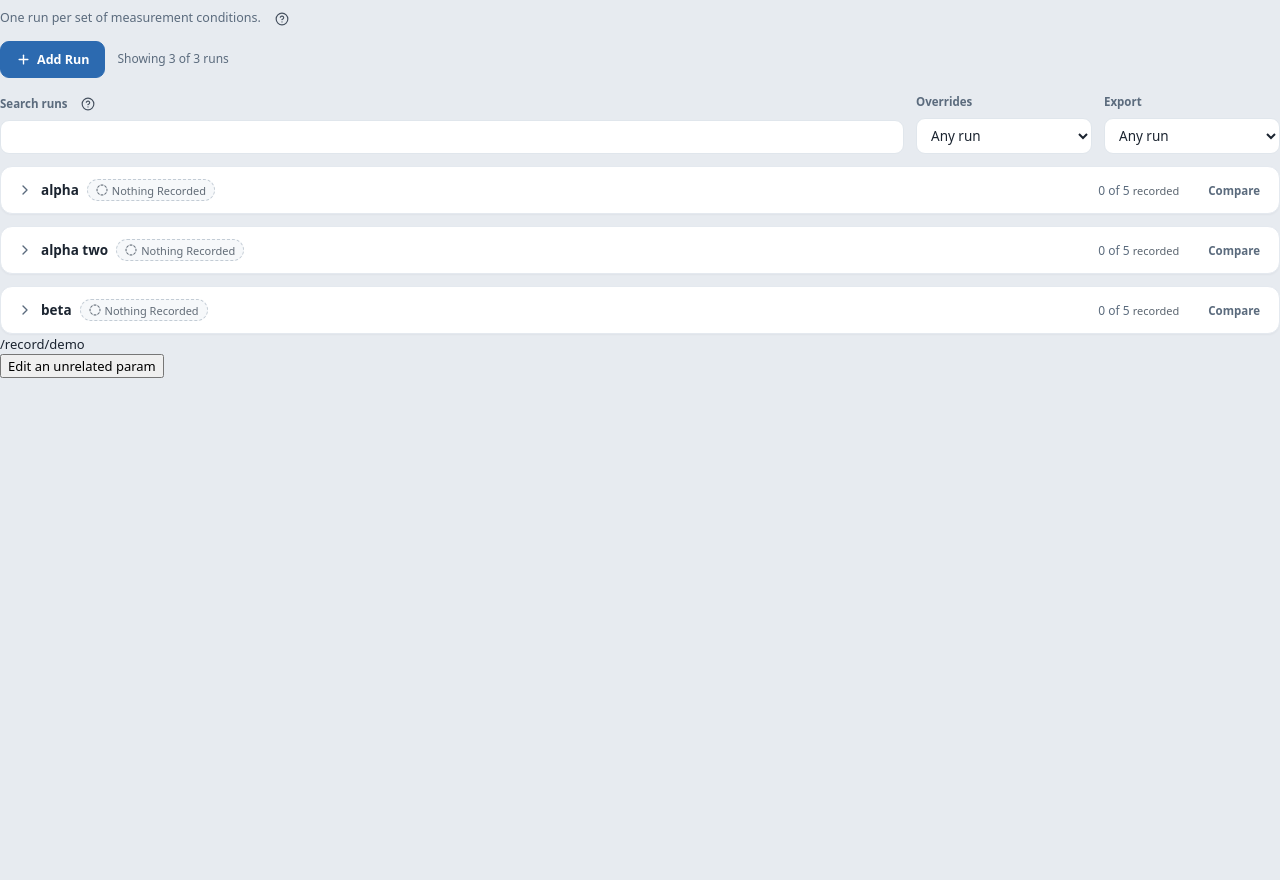
Scenario: list and search recovery › KEEPS the search rather than clearing it, and re-reads with it still on the wire
Expected: the text "Showing 3 of 3 runs" is shown, [117,50,229,69]
Type "alpha" into the search field labelled "Search runs". click: (452, 137)
box: [0,120,904,154]
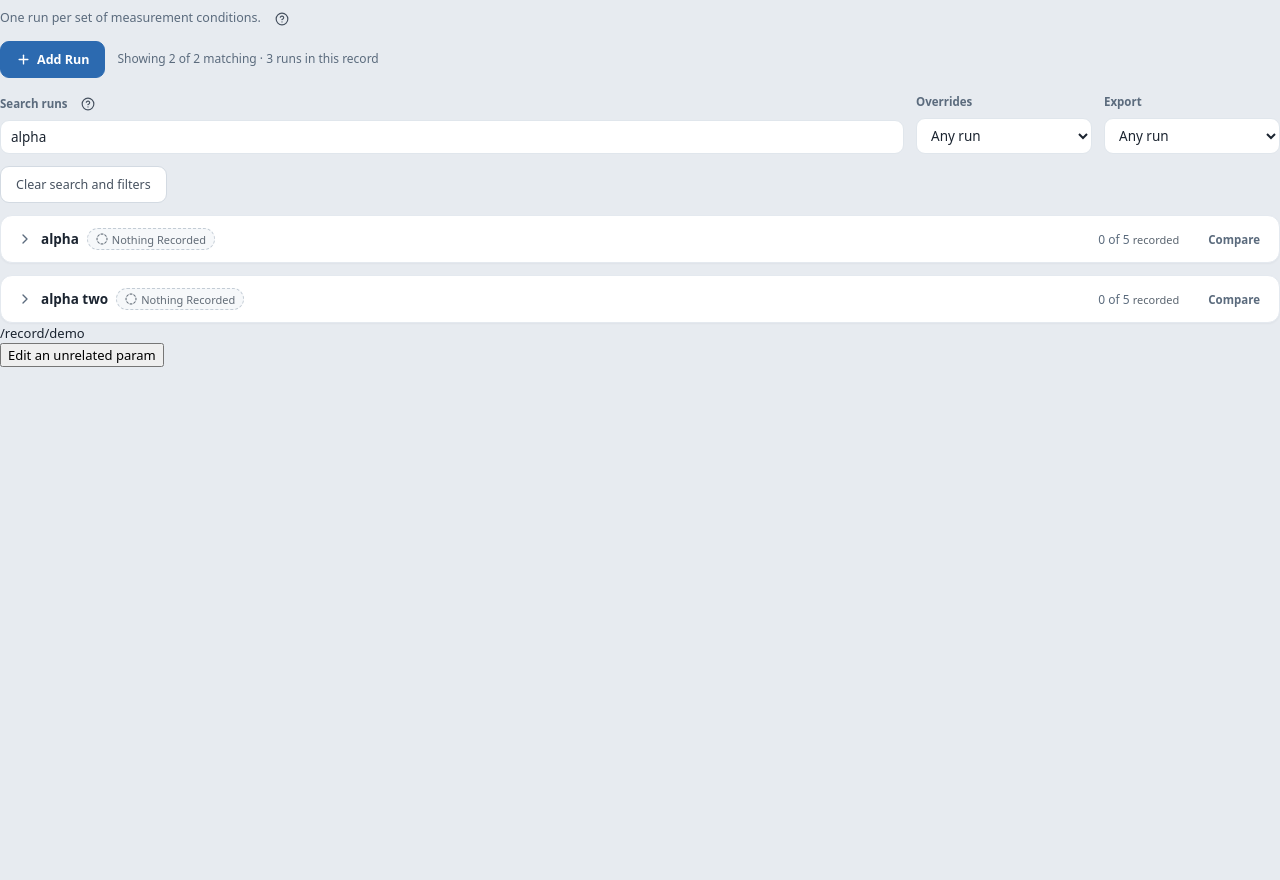
Click the button named "Open ". click: (33, 248)
box: [1,216,1195,262]
(page scrolled)
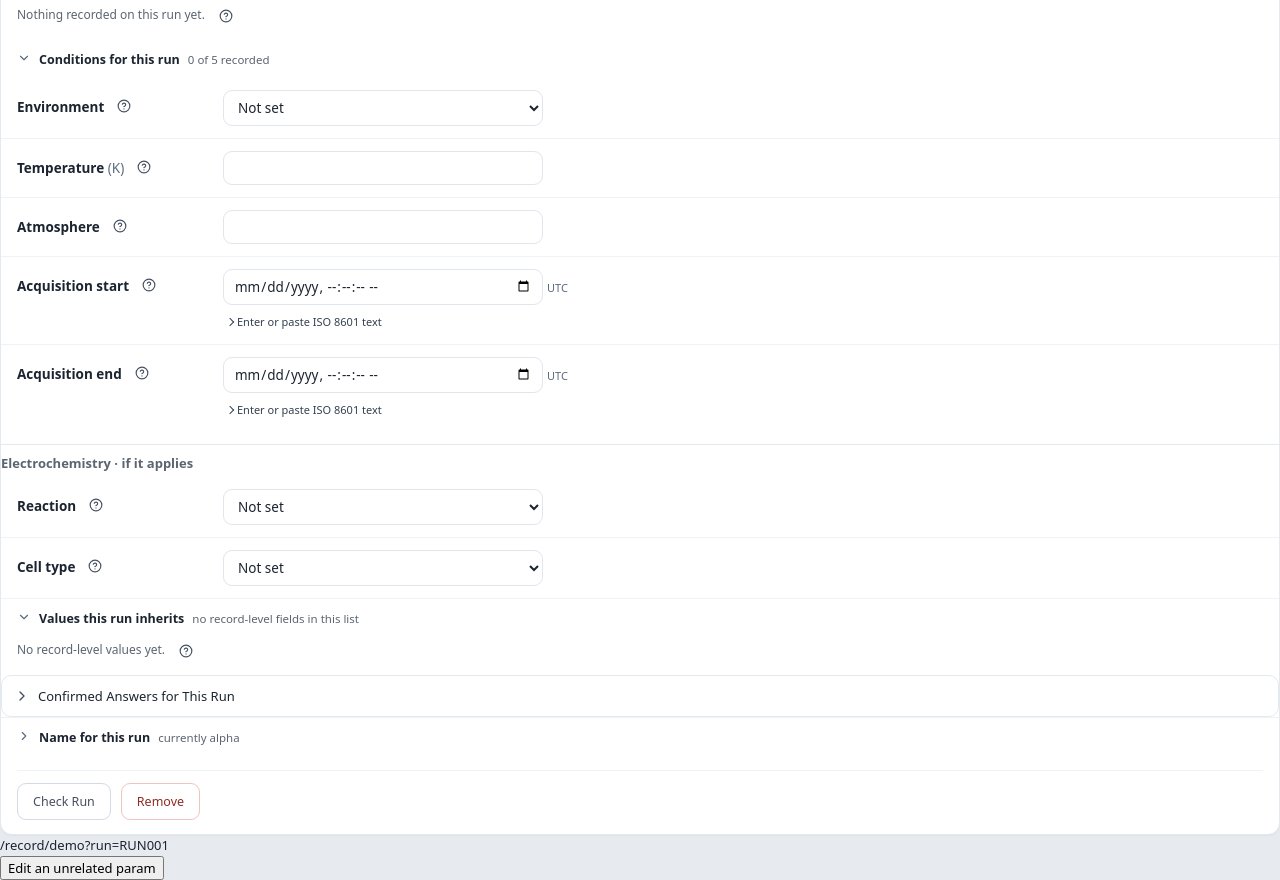
Click the button "Remove". click: (160, 802)
box: [121,783,200,820]
(page scrolled)
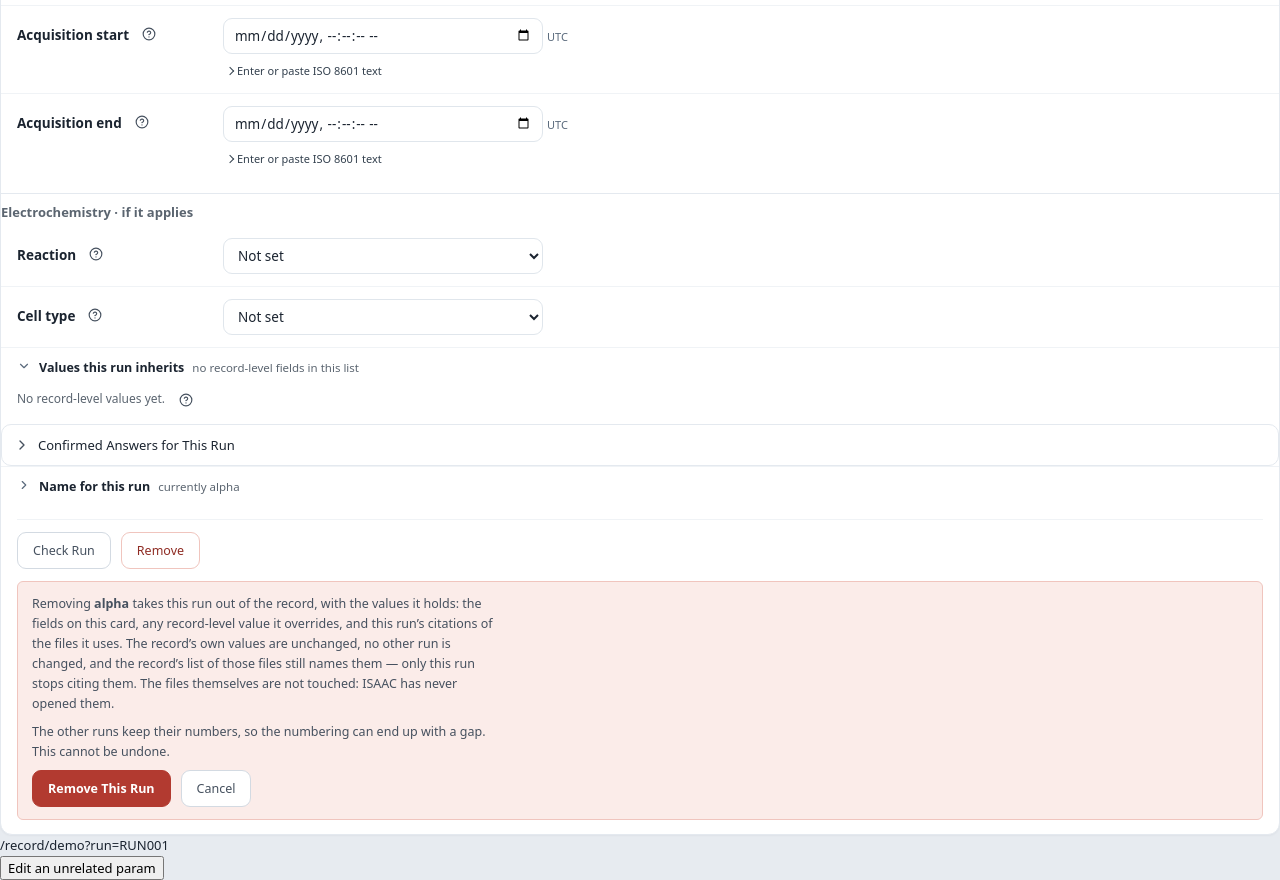
Click the button "Remove This Run". click: (101, 789)
box: [32,770,171,807]
(page scrolled)
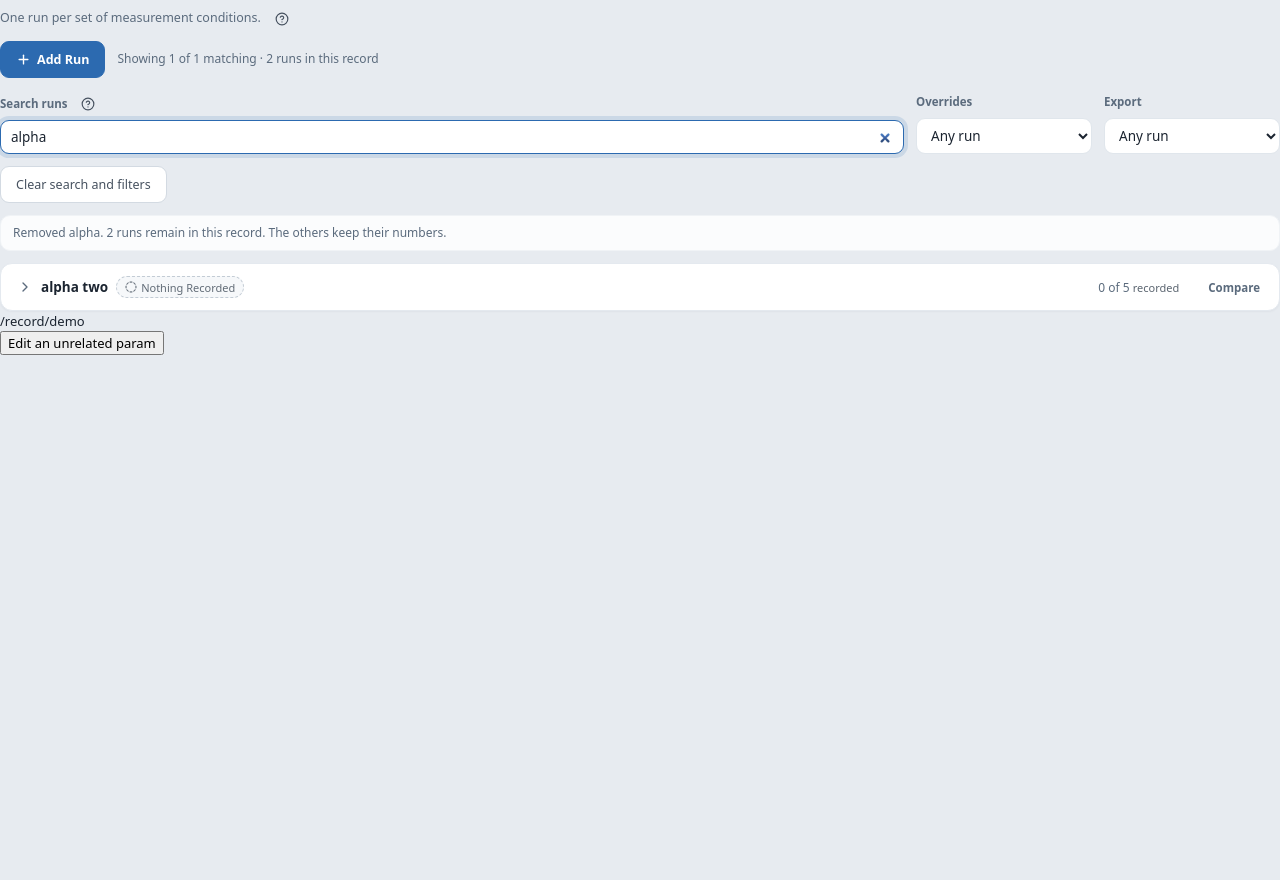
Result: the search field labelled "Search runs" holds "alpha" at [0,120,904,154]
Result: the text with class "runs-count" reads "Showing 1 of 1 matching · 2 runs in this record" at [117,50,379,68]
